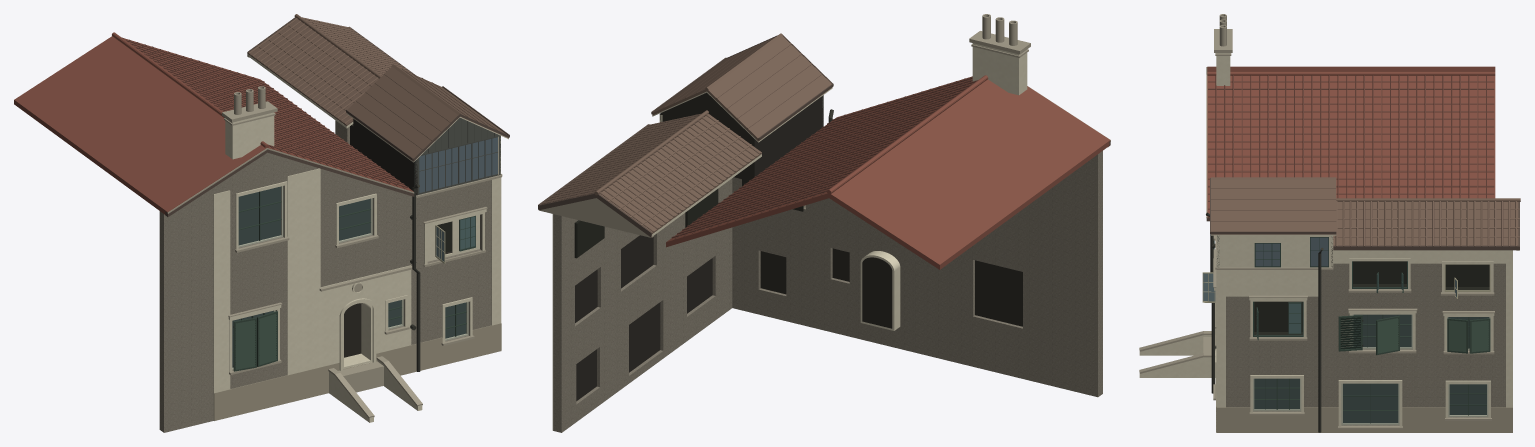
The model's file is xuhui-yanqing-159-garden-residence-raw.glb.
The picture shows the model from 3 angles, left to right: view 1: azimuth 30°, elevation 25°; view 2: azimuth 150°, elevation 25°; view 3: azimuth 270°, elevation 25°; orthographic projection. The views are drawn at different scales.
Visible parts, largest first — view 1: 延庆路159号住宅庭院拱门与临街转角; view 2: 延庆路159号住宅庭院拱门与临街转角; view 3: 延庆路159号住宅庭院拱门与临街转角.
Boxes of the visible parts, <box> form: 延庆路159号住宅庭院拱门与临街转角: <box>14,14,509,432</box>; 延庆路159号住宅庭院拱门与临街转角: <box>538,14,1110,432</box>; 延庆路159号住宅庭院拱门与临街转角: <box>1139,14,1520,432</box>.
Size of the model in its own units: 13.15 by 11.38 by 13.17.
Materials: 22 (2 with a texture image).
